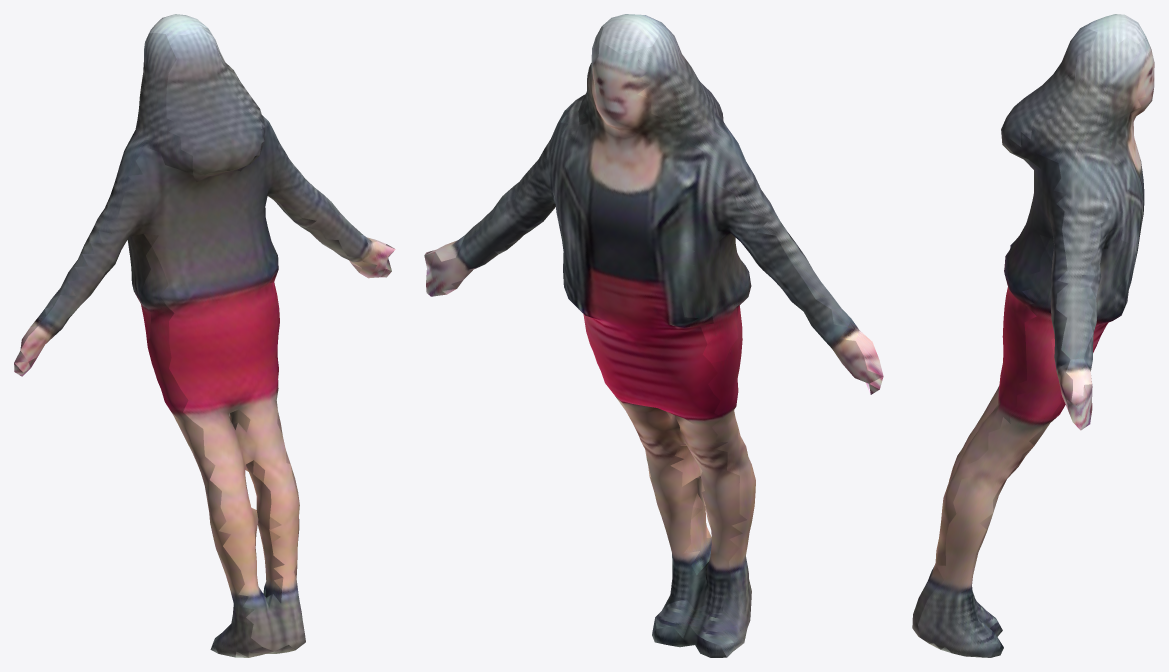
3 views of the same model, side by side, from view 1: azimuth 30°, elevation 25°; view 2: azimuth 150°, elevation 25°; view 3: azimuth 270°, elevation 25° (orthographic). The views are drawn at different scales.
Parts seen in each view (by area): view 1: world; view 2: world; view 3: world.
Boxes of the visible parts, left/top/right/bottom form: world: left=14, top=14, right=395, bottom=657; world: left=424, top=14, right=883, bottom=657; world: left=912, top=14, right=1154, bottom=657.
Size of the model in its own units: 0.6844 by 0.9919 by 0.3494.
Materials: 1 (1 with a texture image).
